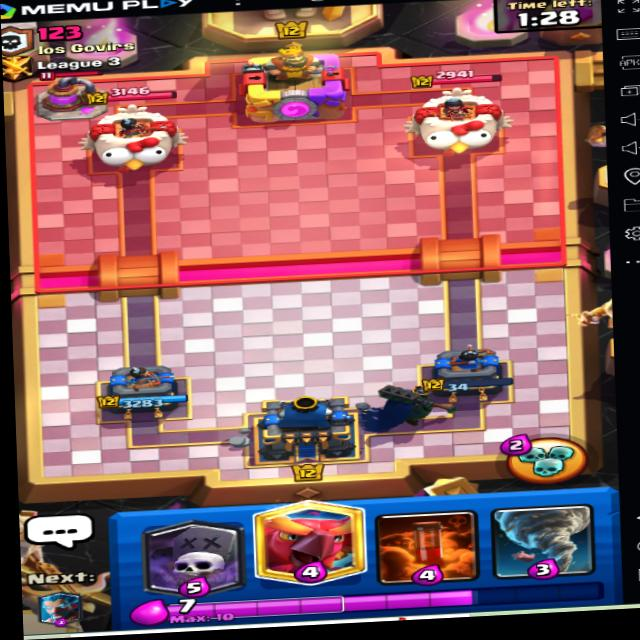elixir-collector: (28, 70, 106, 120)
